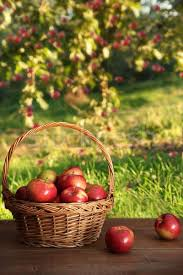apple: (104, 226, 135, 252), (26, 177, 57, 202), (157, 214, 181, 241), (59, 188, 88, 206), (59, 174, 89, 191), (86, 183, 109, 204), (37, 168, 57, 186), (62, 166, 82, 181)
